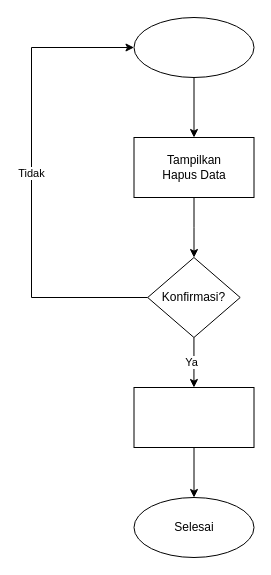
This 271x575 diagram has some shape labels left out. Each missing label, with the centre of its shape:
"Mulai" belongs at point 193,47.
"Operasi ke database" belongs at point 193,417.
